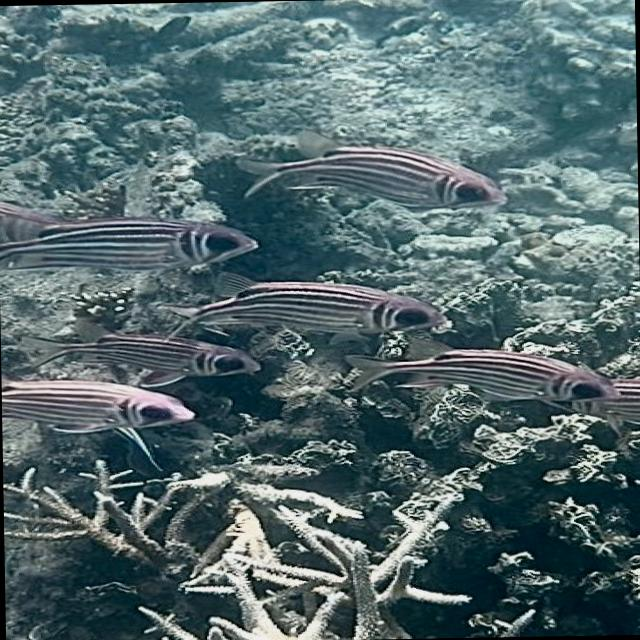Asker Baligi: (228, 121, 514, 226), (135, 270, 468, 354), (9, 205, 264, 286), (378, 337, 620, 417), (1, 368, 229, 448)
